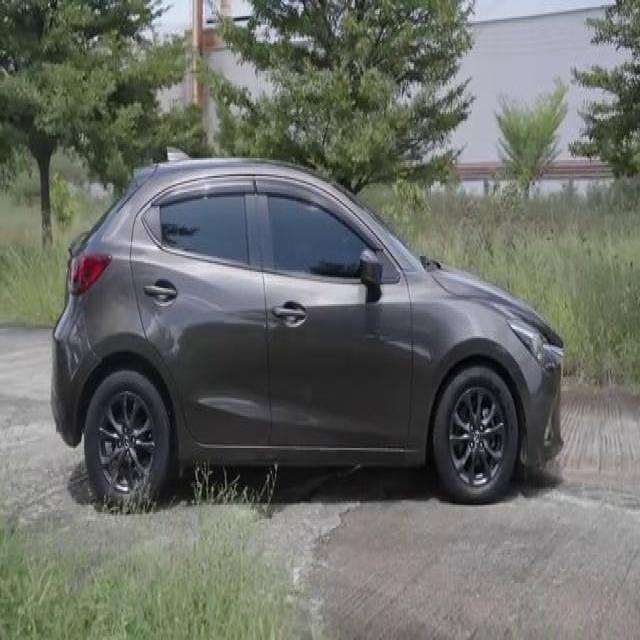Hatchback: (51, 149, 563, 501)
